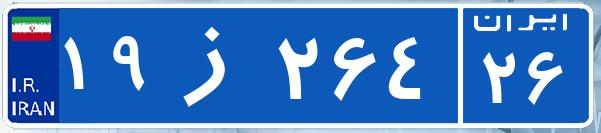1: (57, 26, 110, 107)
2: (273, 28, 330, 110), (475, 38, 525, 113)
4: (385, 28, 445, 110)
6: (330, 28, 385, 110), (525, 38, 570, 115)
9: (110, 28, 158, 105)
ز: (158, 15, 273, 115)
